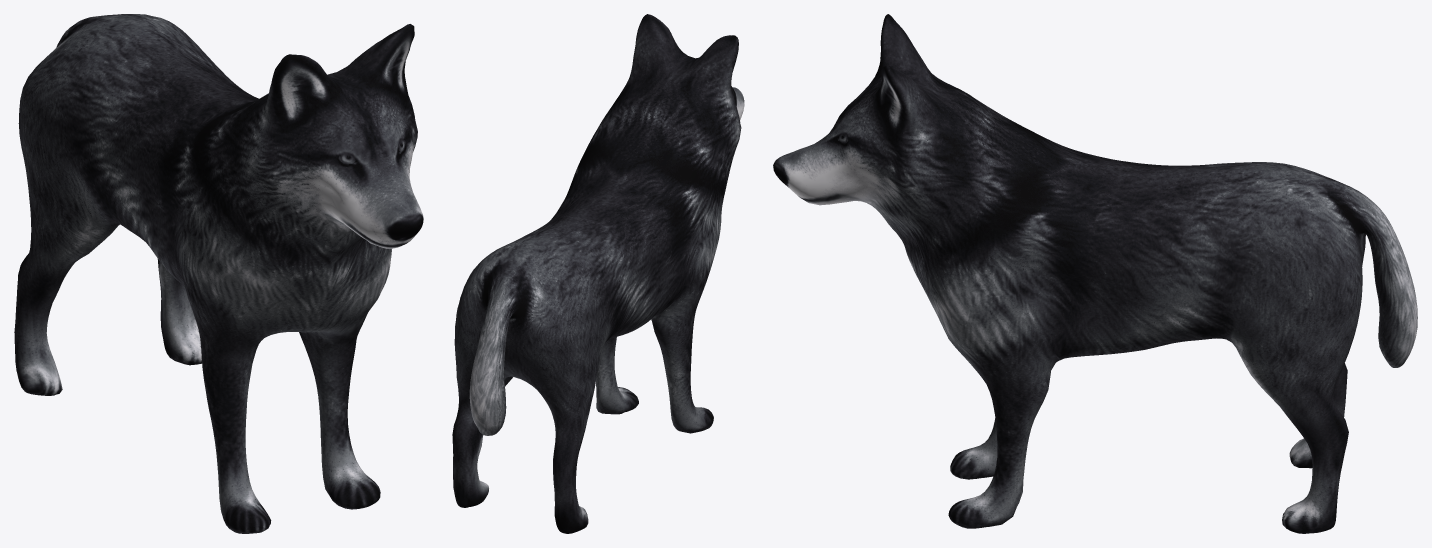
The picture shows the model from 3 angles, left to right: view 1: azimuth 30°, elevation 25°; view 2: azimuth 150°, elevation 25°; view 3: azimuth 270°, elevation 25°; orthographic projection. The views are drawn at different scales.
Visible parts, largest first — view 1: Wolf_Quad; view 2: Wolf_Quad; view 3: Wolf_Quad.
Part boxes in pixels (x1=…): Wolf_Quad: x1=14, y1=14, x2=423, y2=533; Wolf_Quad: x1=452, y1=14, x2=744, y2=533; Wolf_Quad: x1=773, y1=14, x2=1417, y2=533.
Size of the model in its own units: 0.4034 by 1.09 by 1.39.
1 material, 1 textured.
